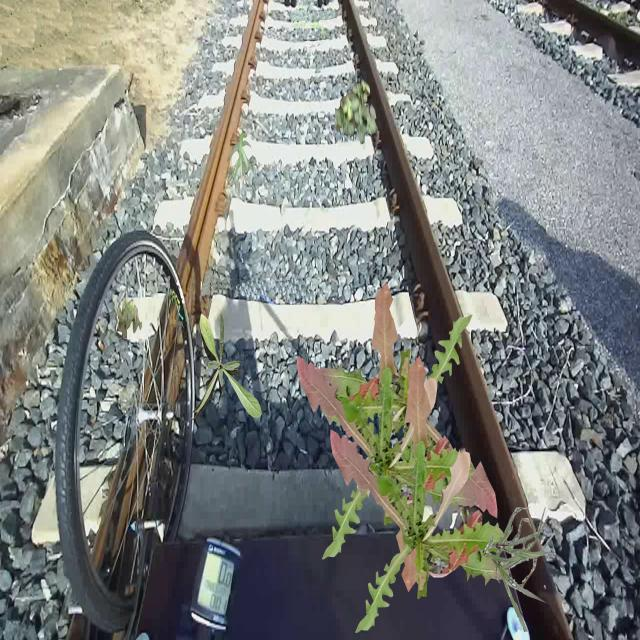Plant: (318, 315, 498, 593), (297, 282, 477, 560), (330, 355, 510, 633), (483, 507, 556, 632), (190, 312, 262, 420), (334, 78, 378, 144), (227, 131, 253, 188), (117, 296, 143, 338)
